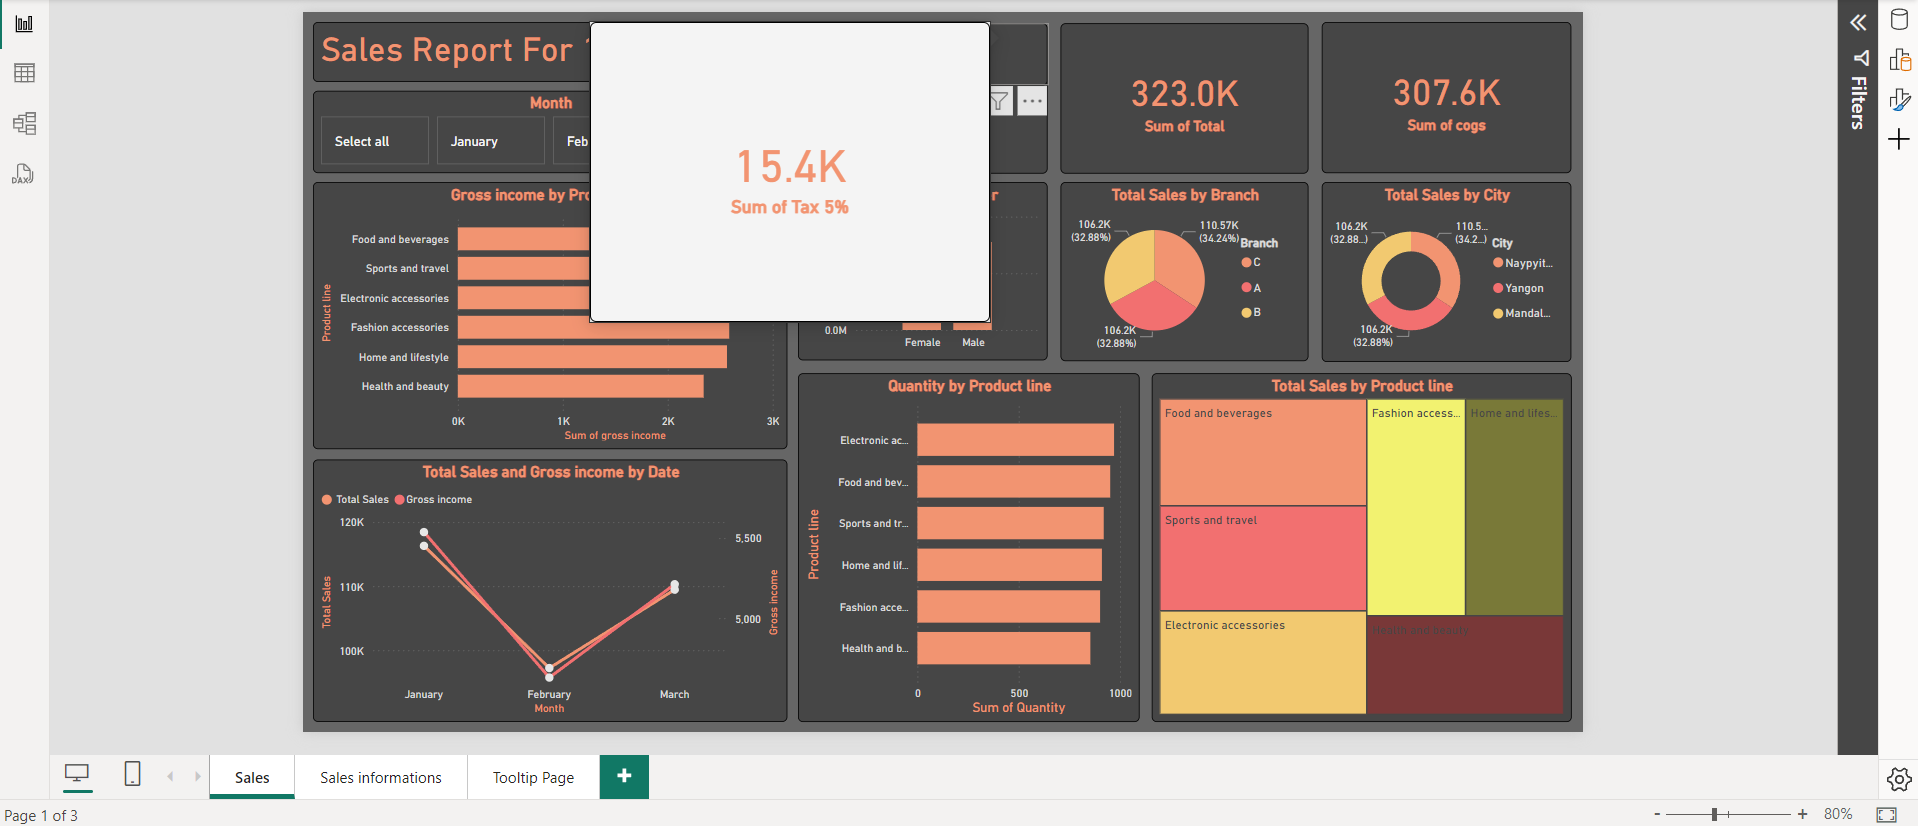

What the dashboard file says about the page in this screenshot:
{"tool":"powerbi","page":{"name":"Sales","canvas":[1280,720],"ordinal":0},"visuals":[{"type":"card","fields":{"Values":["Sum(supermarket_sales.gross income)"]},"box":[494.9,11.5,249.6,150],"z":0},{"type":"card","fields":{"Values":["Sum(supermarket_sales.cogs)"]},"box":[1018.6,10.1,249.6,151.5],"z":1000},{"type":"pieChart","title":"Total Sales by Branch","fields":{"Category":["supermarket_sales.Branch"],"Y":["Sum(supermarket_sales.Total)"]},"box":[757.4,170,248.2,178.9],"z":2000},{"type":"card","fields":{"Values":["Sum(supermarket_sales.Total)"]},"box":[757.4,11.5,248.2,150],"z":3000},{"type":"donutChart","title":"Total Sales by City","fields":{"Category":["supermarket_sales.City"],"Y":["Sum(supermarket_sales.Total)"]},"box":[1018.6,170,249.6,180.3],"z":4000},{"type":"treemap","title":"Total Sales by Product line","fields":{"Group":["supermarket_sales.Product line"],"Values":["Sum(supermarket_sales.Total)"]},"box":[848.3,360.7,419.8,349.1],"z":5000},{"type":"clusteredColumnChart","title":"Total Sales by Gender","fields":{"Category":["supermarket_sales.Gender"],"Y":["Sum(supermarket_sales.Total)"]},"box":[494.9,170,249.6,178],"z":6000},{"type":"lineChart","title":"Total Sales and Gross income by Date","fields":{"Y":["Sum(supermarket_sales.Total)"],"Category":["supermarket_sales.Date Hierarchy.Year","supermarket_sales.Date Hierarchy.Quarter","supermarket_sales.Date Hierarchy.Month","supermarket_sales.Date Hierarchy.Day"],"Y2":["Sum(supermarket_sales.gross income)"]},"box":[10.1,447.3,474.7,262.6],"z":7000},{"type":"clusteredBarChart","title":"Gross income by Product line","fields":{"Category":["supermarket_sales.Product line"],"Y":["Sum(supermarket_sales.gross income)"]},"box":[10.1,170.2,474.7,266.9],"z":8000},{"type":"clusteredBarChart","title":"Quantity by Product line","fields":{"Category":["supermarket_sales.Product line"],"Y":["Sum(supermarket_sales.Quantity)"]},"box":[494.9,360.7,341.9,349.1],"z":9000},{"type":"textbox","box":[10.1,10.1,475,60],"z":10000},{"type":"advancedSlicerVisual","title":"Month ","fields":{"Values":["supermarket_sales.Date Hierarchy.Month"]},"box":[10.1,79.4,474.7,82.2],"z":11000},{"type":"card","fields":{"Values":["Min(supermarket_sales.Tooltip)"]},"box":[663.7,11.5,80.8,62],"z":12000}]}

Visuals, with their boxes on the page's 1280x720 design canvas (x1, y1, x2, y2). These are canvas units, not pixel positions in the 1918x826 screenshot, which may show the page scaled, cropped or inside an application window:
card - Sum(supermarket_sales.gross income): crop(495, 12, 744, 162)
card - Sum(supermarket_sales.cogs): crop(1019, 10, 1268, 162)
"Total Sales by Branch" pieChart: crop(757, 170, 1006, 349)
card - Sum(supermarket_sales.Total): crop(757, 12, 1006, 162)
"Total Sales by City" donutChart: crop(1019, 170, 1268, 350)
"Total Sales by Product line" treemap: crop(848, 361, 1268, 710)
"Total Sales by Gender" clusteredColumnChart: crop(495, 170, 744, 348)
"Total Sales and Gross income by Date" lineChart: crop(10, 447, 485, 710)
"Gross income by Product line" clusteredBarChart: crop(10, 170, 485, 437)
"Quantity by Product line" clusteredBarChart: crop(495, 361, 837, 710)
textbox: crop(10, 10, 485, 70)
"Month " advancedSlicerVisual: crop(10, 79, 485, 162)
card - Min(supermarket_sales.Tooltip): crop(664, 12, 744, 74)
